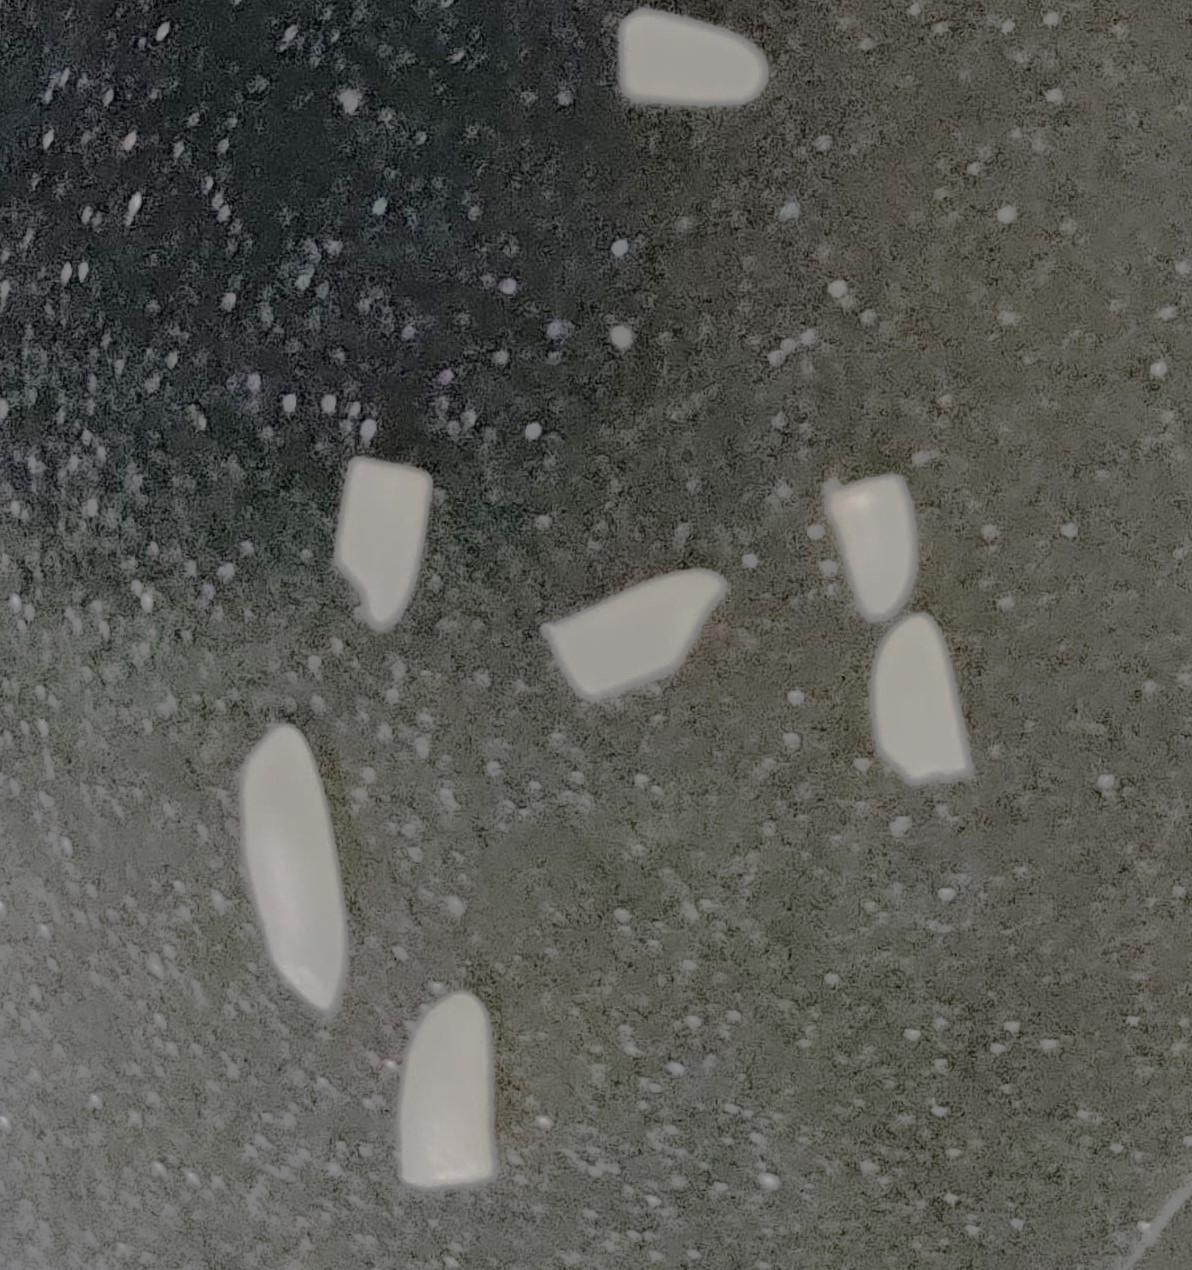broken_grain: (538, 564, 740, 703), (394, 995, 515, 1205), (858, 609, 980, 801), (328, 442, 437, 642), (597, 8, 785, 115), (823, 467, 922, 625)
complete_grain: (227, 724, 364, 1032)
